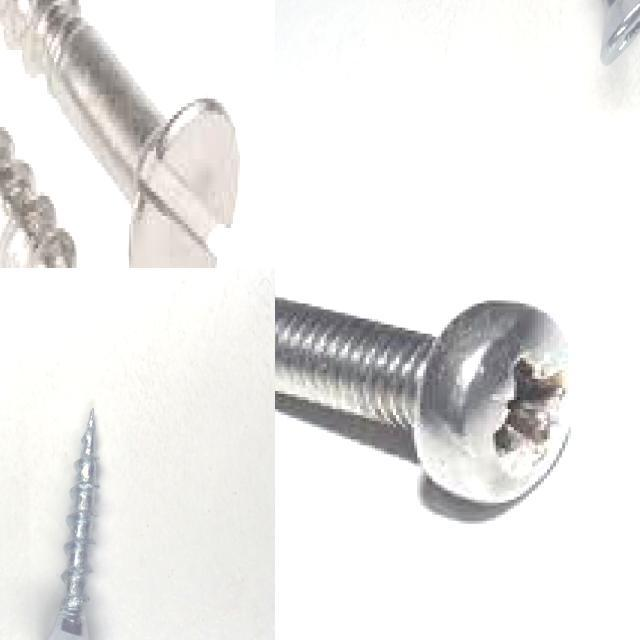Screw: (0, 0, 240, 268), (275, 297, 574, 503), (45, 408, 98, 640), (600, 0, 640, 65)
